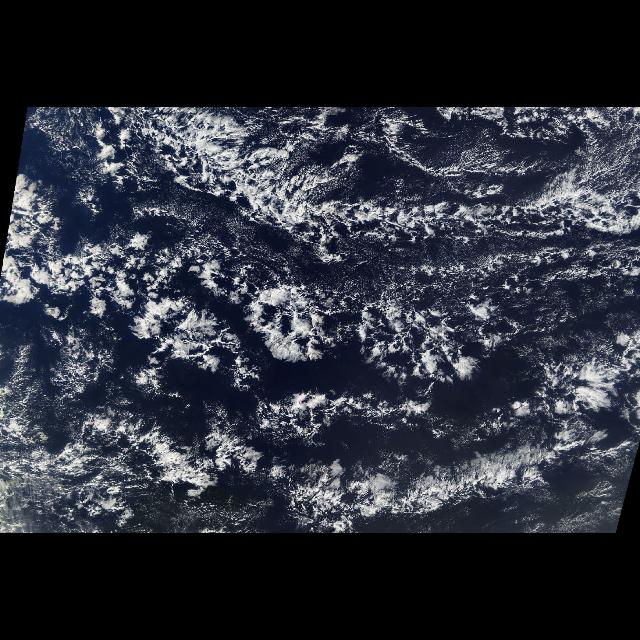Fish: (92, 108, 640, 272)
Gravel: (15, 354, 637, 530)
